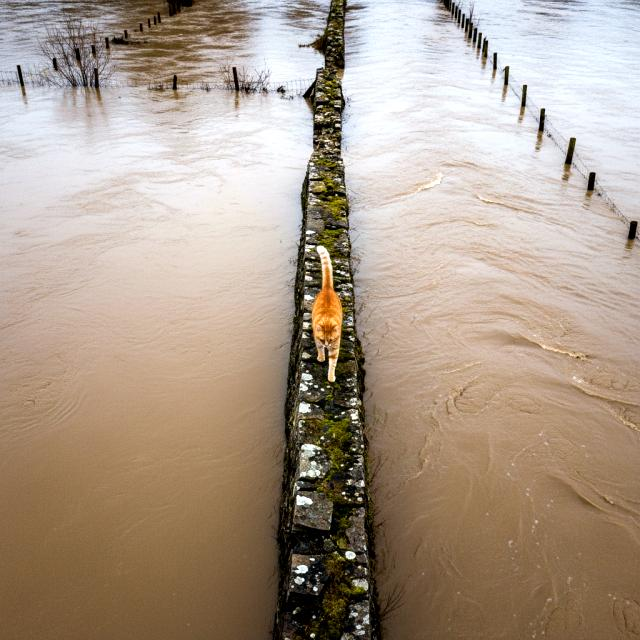cat: (298, 238, 353, 382)
